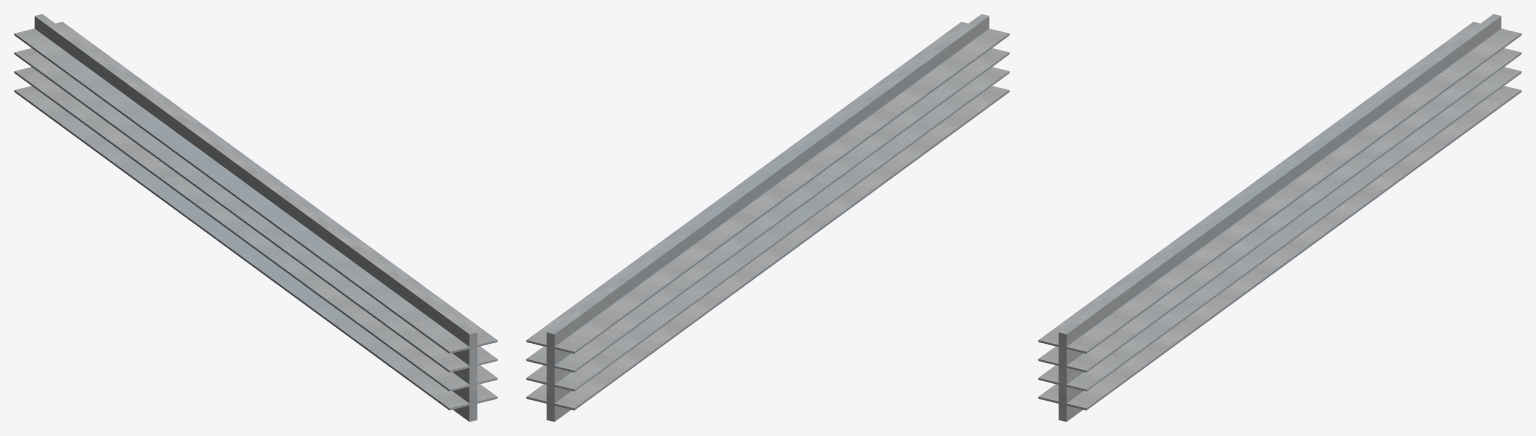
Rendered from twoSidedShelf44.fbx.
The picture shows the model from 3 angles, left to right: view 1: azimuth 30°, elevation 25°; view 2: azimuth 150°, elevation 25°; view 3: azimuth 330°, elevation 25°; orthographic projection.
Visible parts, largest first — view 1: Model; view 2: Model; view 3: Model.
Part boxes in pixels (x1,y1,x2,y2): Model: [14, 14, 497, 421]; Model: [526, 14, 1009, 421]; Model: [1038, 14, 1521, 421].
Size of the model in its own units: 1.2 by 2.09 by 18.8.
